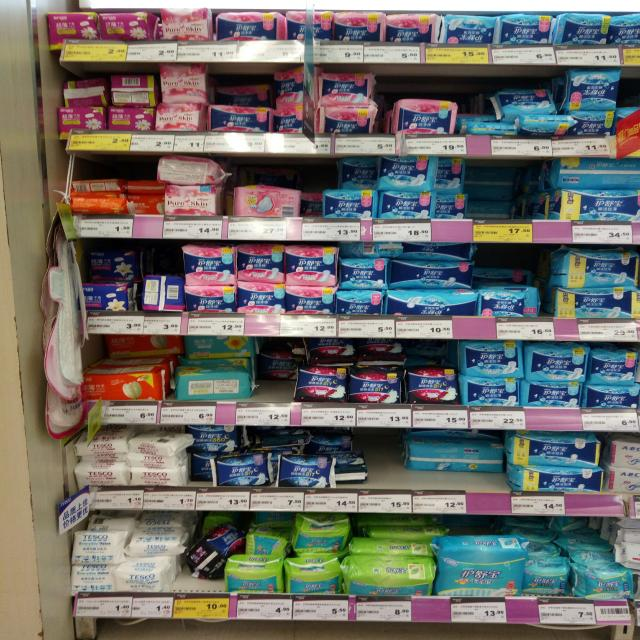empty: (351, 429, 413, 497)
